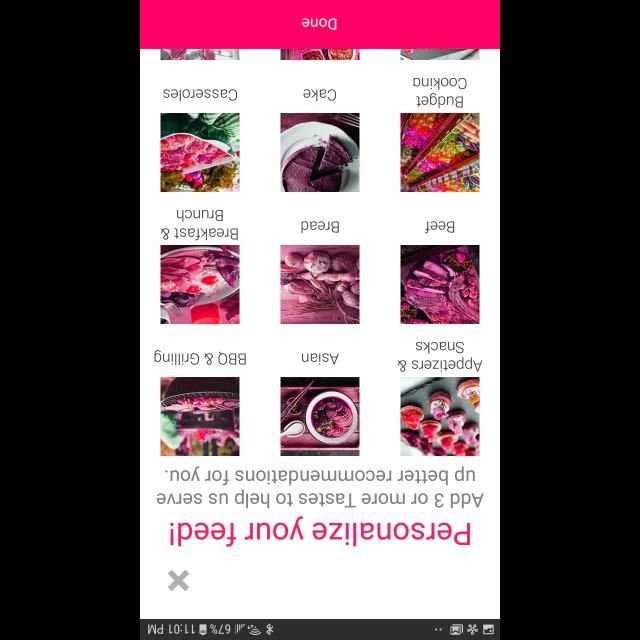icon: (167, 570, 189, 590)
image: (400, 376, 480, 456), (280, 376, 360, 456), (160, 376, 240, 456), (400, 244, 480, 324), (280, 244, 360, 324), (160, 244, 240, 324), (400, 112, 480, 192), (280, 112, 360, 192), (160, 112, 240, 192), (400, 49, 480, 60), (280, 49, 360, 60), (160, 49, 240, 60)
text: (156, 466, 484, 508), (170, 516, 470, 546), (398, 341, 482, 372), (160, 210, 238, 240), (413, 78, 467, 109), (154, 350, 246, 366), (163, 88, 237, 102), (301, 220, 339, 233), (304, 88, 336, 102), (302, 353, 338, 365), (425, 220, 455, 233)
textbutton: (141, 0, 500, 49)
uppertaskbar: (140, 618, 500, 640)
